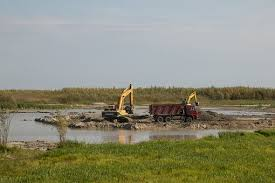excavator: (101, 83, 137, 126)
truck: (149, 104, 201, 124)
